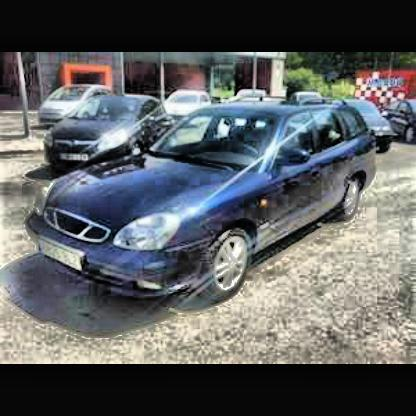Daewoo Nubira Wagon 2002: (23, 95, 377, 303)
